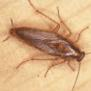cockroach: (9, 26, 86, 64)
